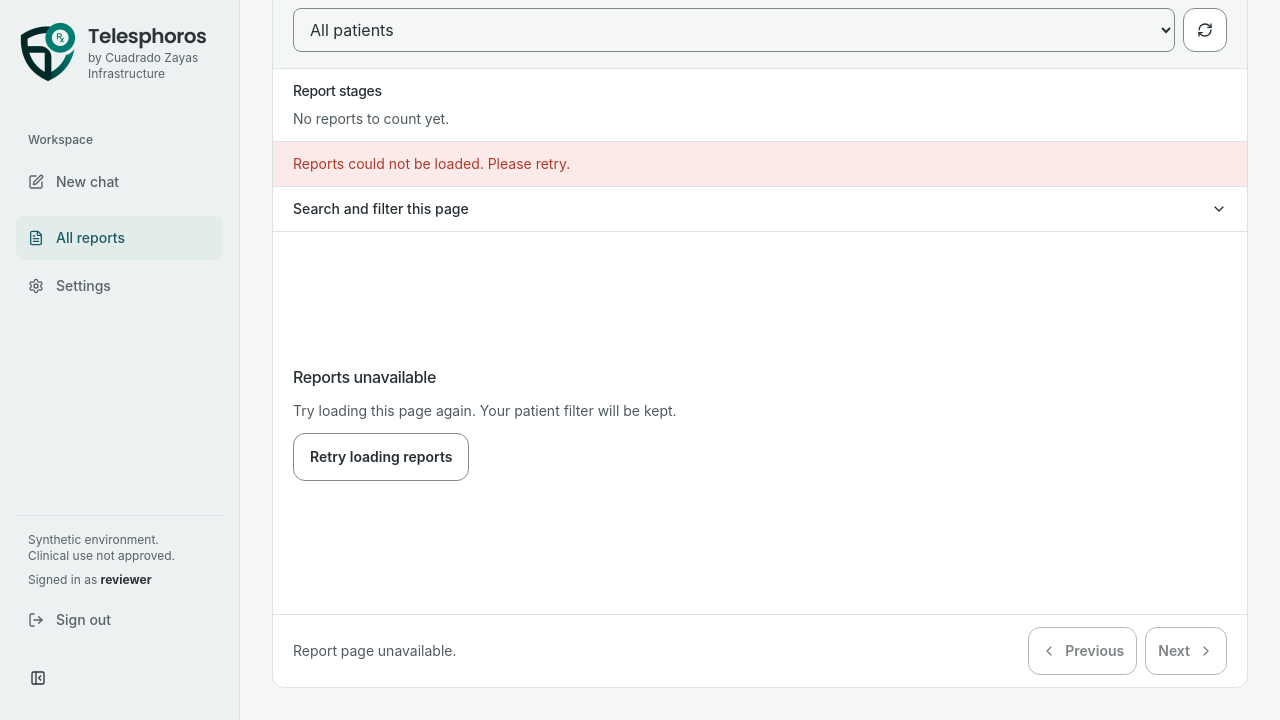
Test: reports page with real auth and route guards › sanitizes errors, offers retry and handles an empty result
(page scrolled)
Expected: the message "Reports could not be loaded. Please retry." is shown, [273,141,1247,186]
Click the button "Retry loading reports".
click(381, 457)  # box [293,433,470,481]
(page scrolled)
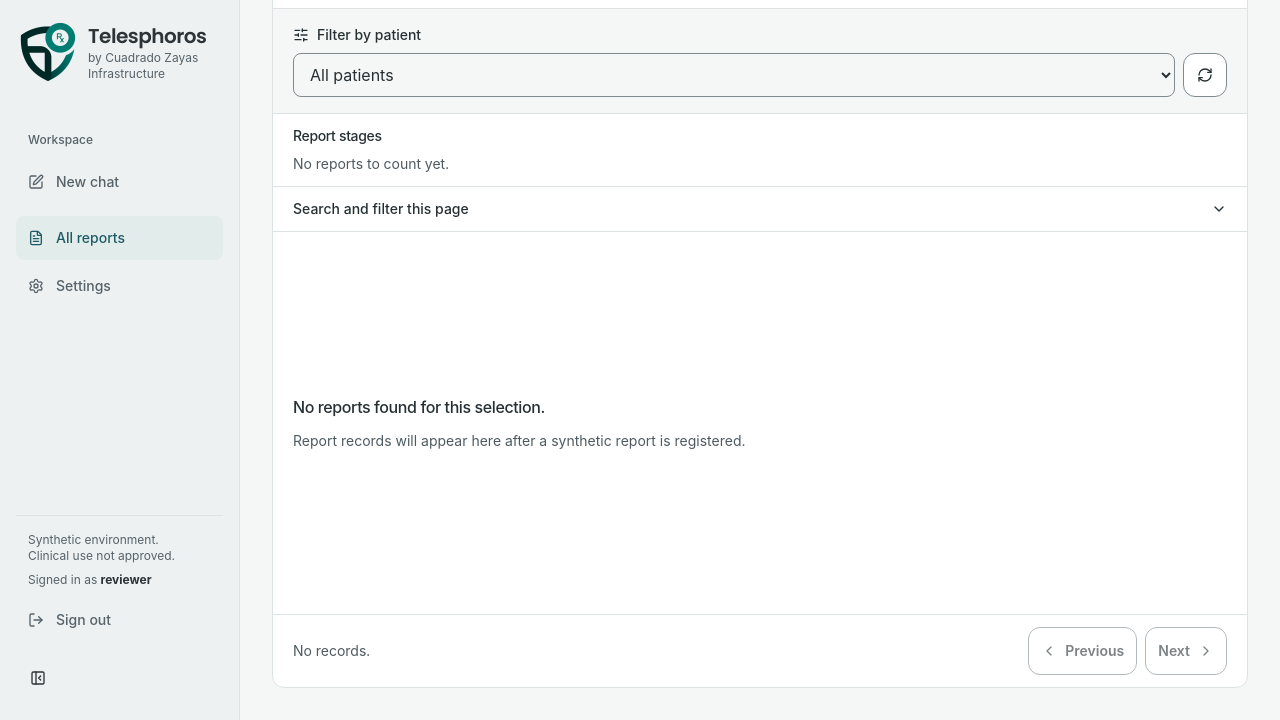
Now the heading "No reports found for this selection." is shown, box [293,395,545,419]
